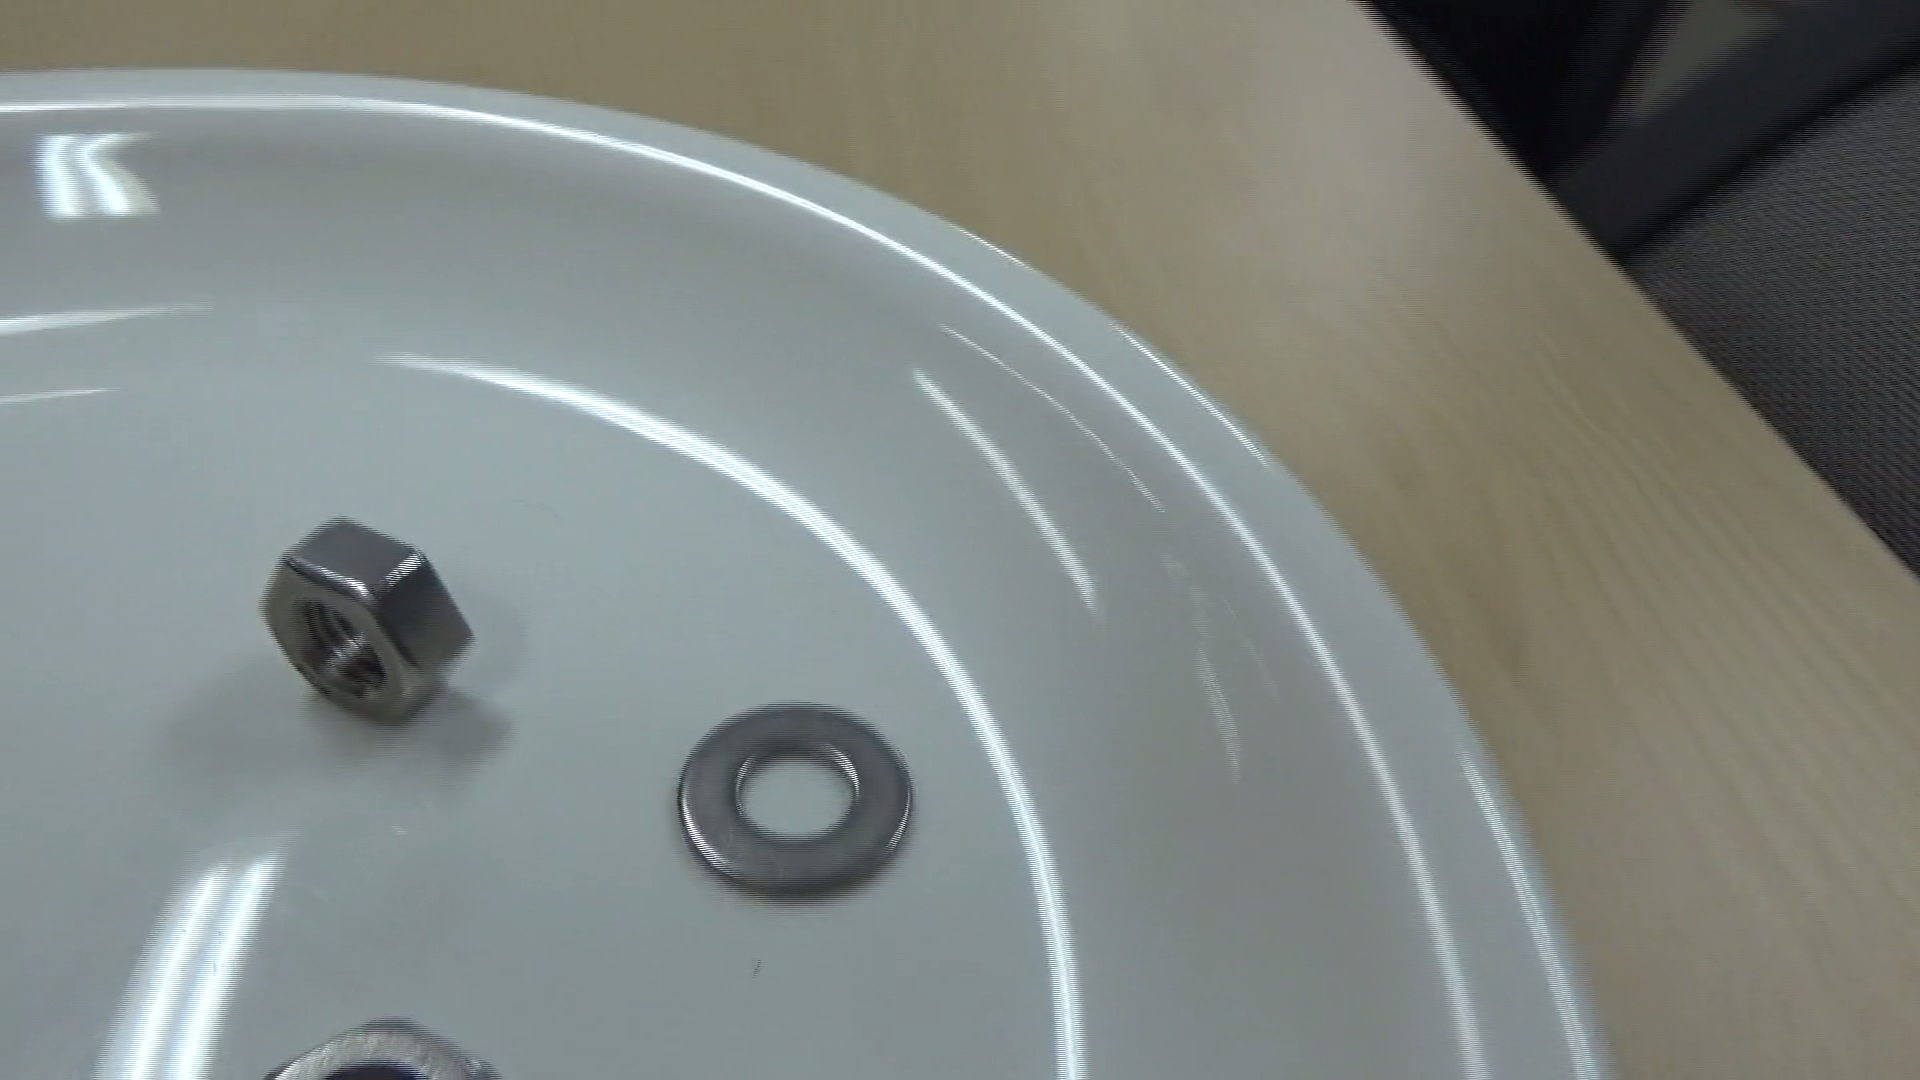nut: (258, 514, 467, 728), (262, 1011, 504, 1080)
washer: (674, 700, 916, 905)
